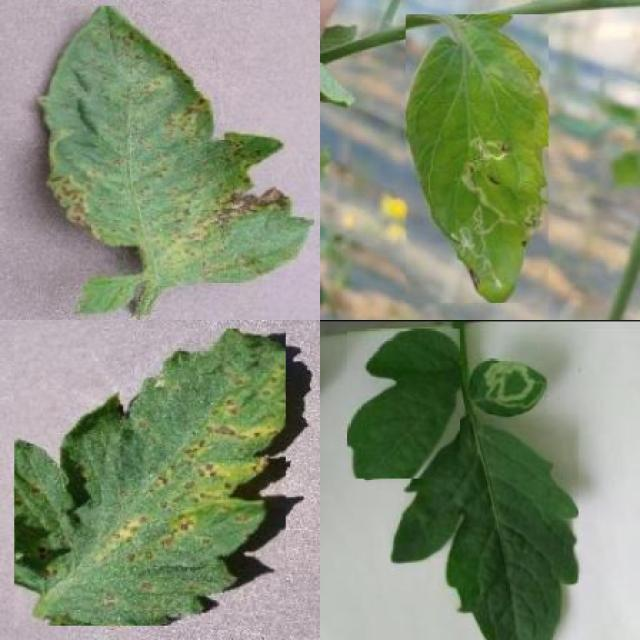Healthy: (390, 414, 579, 640), (347, 328, 460, 478)
Leaf Miner: (406, 14, 548, 302), (470, 357, 547, 420)
Septoria: (15, 329, 285, 625), (35, 6, 314, 286)
